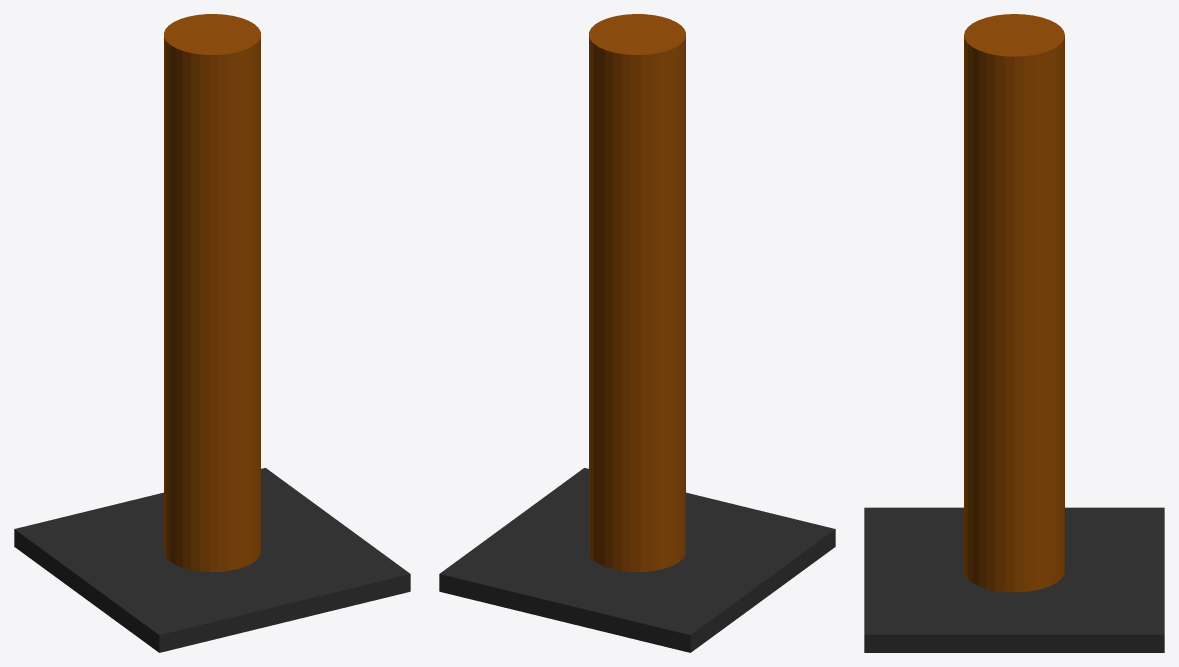
Rendered from pillar.fbx.
The picture shows the model from 3 angles, left to right: view 1: azimuth 30°, elevation 25°; view 2: azimuth 150°, elevation 25°; view 3: azimuth 270°, elevation 25°; orthographic projection. The views are drawn at different scales.
Visible parts, largest first — view 1: Cylinder, Cube; view 2: Cylinder, Cube; view 3: Cylinder, Cube.
Part boxes in pixels (<box>): Cylinder: <box>164,14,260,571</box>; Cube: <box>14,468,410,652</box>; Cylinder: <box>589,14,685,571</box>; Cube: <box>439,468,835,652</box>; Cylinder: <box>964,14,1064,592</box>; Cube: <box>864,507,1164,652</box>.
Bounding box in the file's own units: 200 × 407 × 200.
